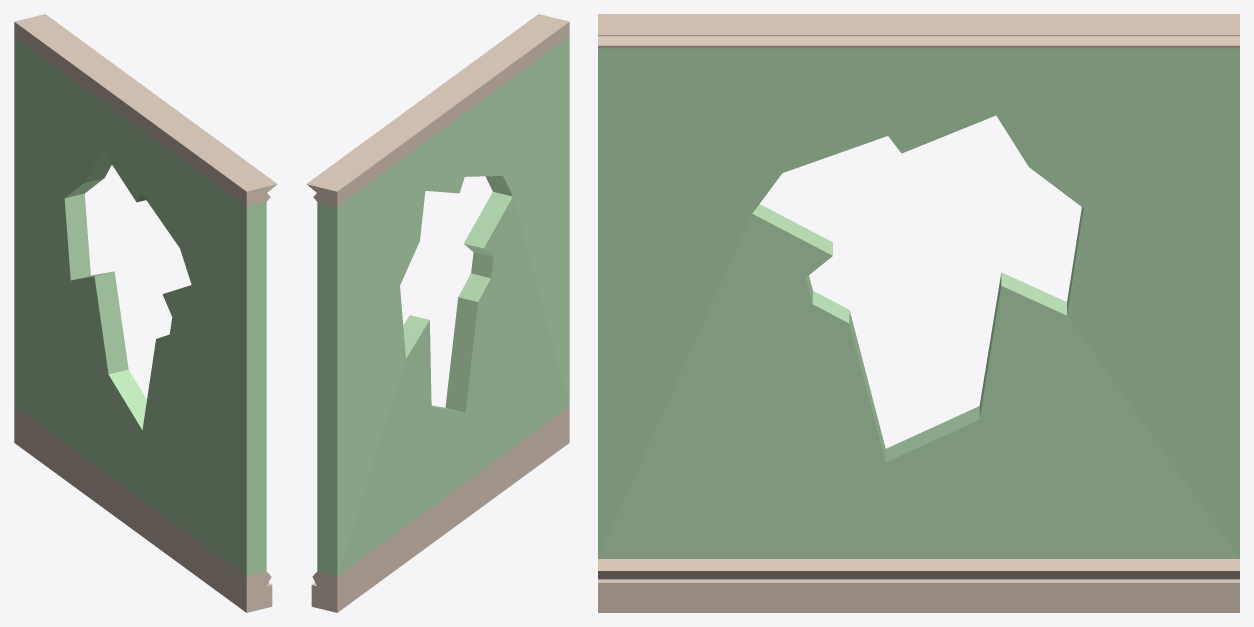
The model's file is Wall_LargeHole8.fbx.
3 views of the same model, side by side, from view 1: azimuth 30°, elevation 25°; view 2: azimuth 150°, elevation 25°; view 3: azimuth 270°, elevation 25° (orthographic). The views are drawn at different scales.
Parts seen in each view (by area): view 1: Cube; view 2: Cube; view 3: Cube.
Boxes of the visible parts, <box> form: Cube: <box>14,14,277,612</box>; Cube: <box>306,14,569,612</box>; Cube: <box>598,14,1239,612</box>.
Size of the model in its own units: 73.97 by 800 by 800.
